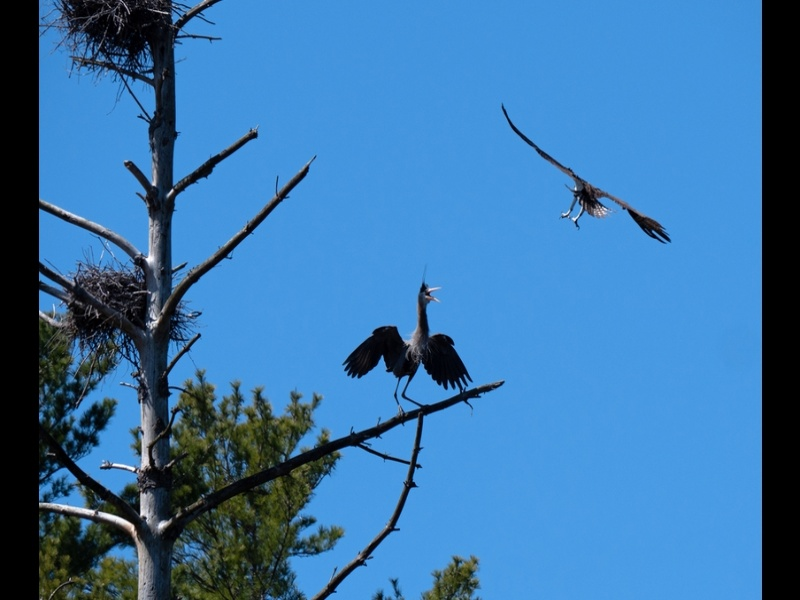heron: (497, 106, 672, 247), (342, 273, 472, 420)
